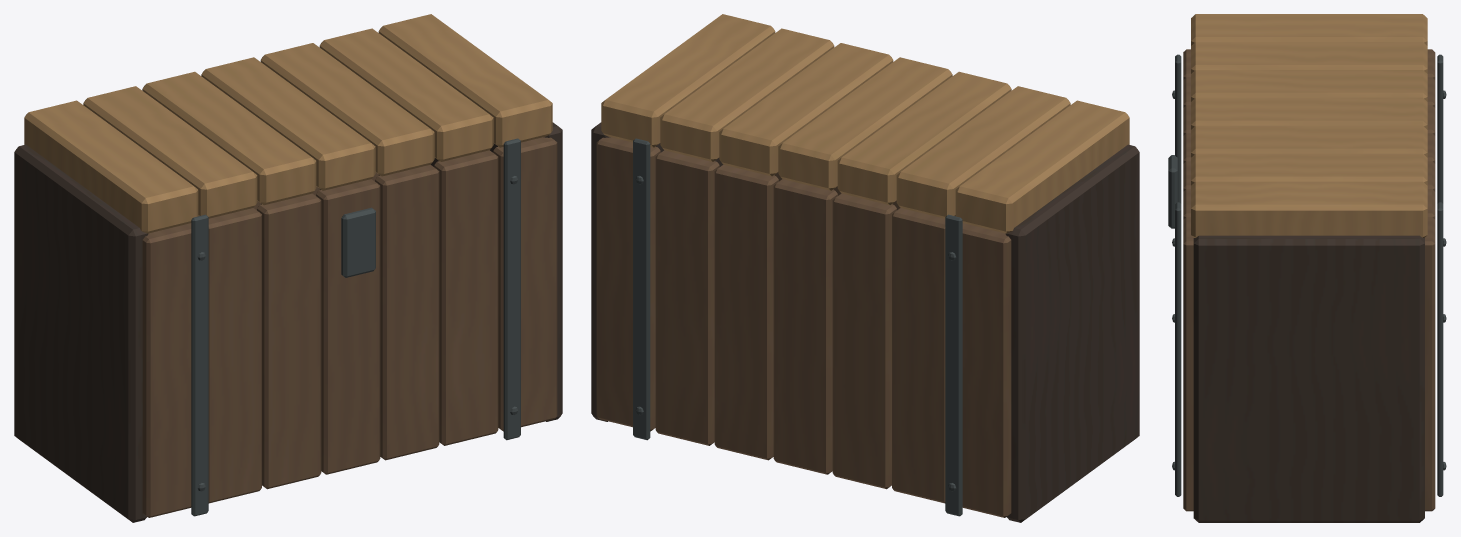
Rendered from PR_Chest.glb.
The picture shows the model from 3 angles, left to right: view 1: azimuth 30°, elevation 25°; view 2: azimuth 150°, elevation 25°; view 3: azimuth 270°, elevation 25°; orthographic projection. The views are drawn at different scales.
Parts seen in each view (by area): view 1: PR_Chest; view 2: PR_Chest; view 3: PR_Chest.
Boxes of the visible parts, left/top/right/bottom form: PR_Chest: left=14, top=14, right=562, bottom=522; PR_Chest: left=591, top=14, right=1139, bottom=522; PR_Chest: left=1168, top=14, right=1446, bottom=522.
Bounding box in the file's own units: 0.945 × 0.6725 × 0.541.
Materials: 4 (3 with a texture image).
